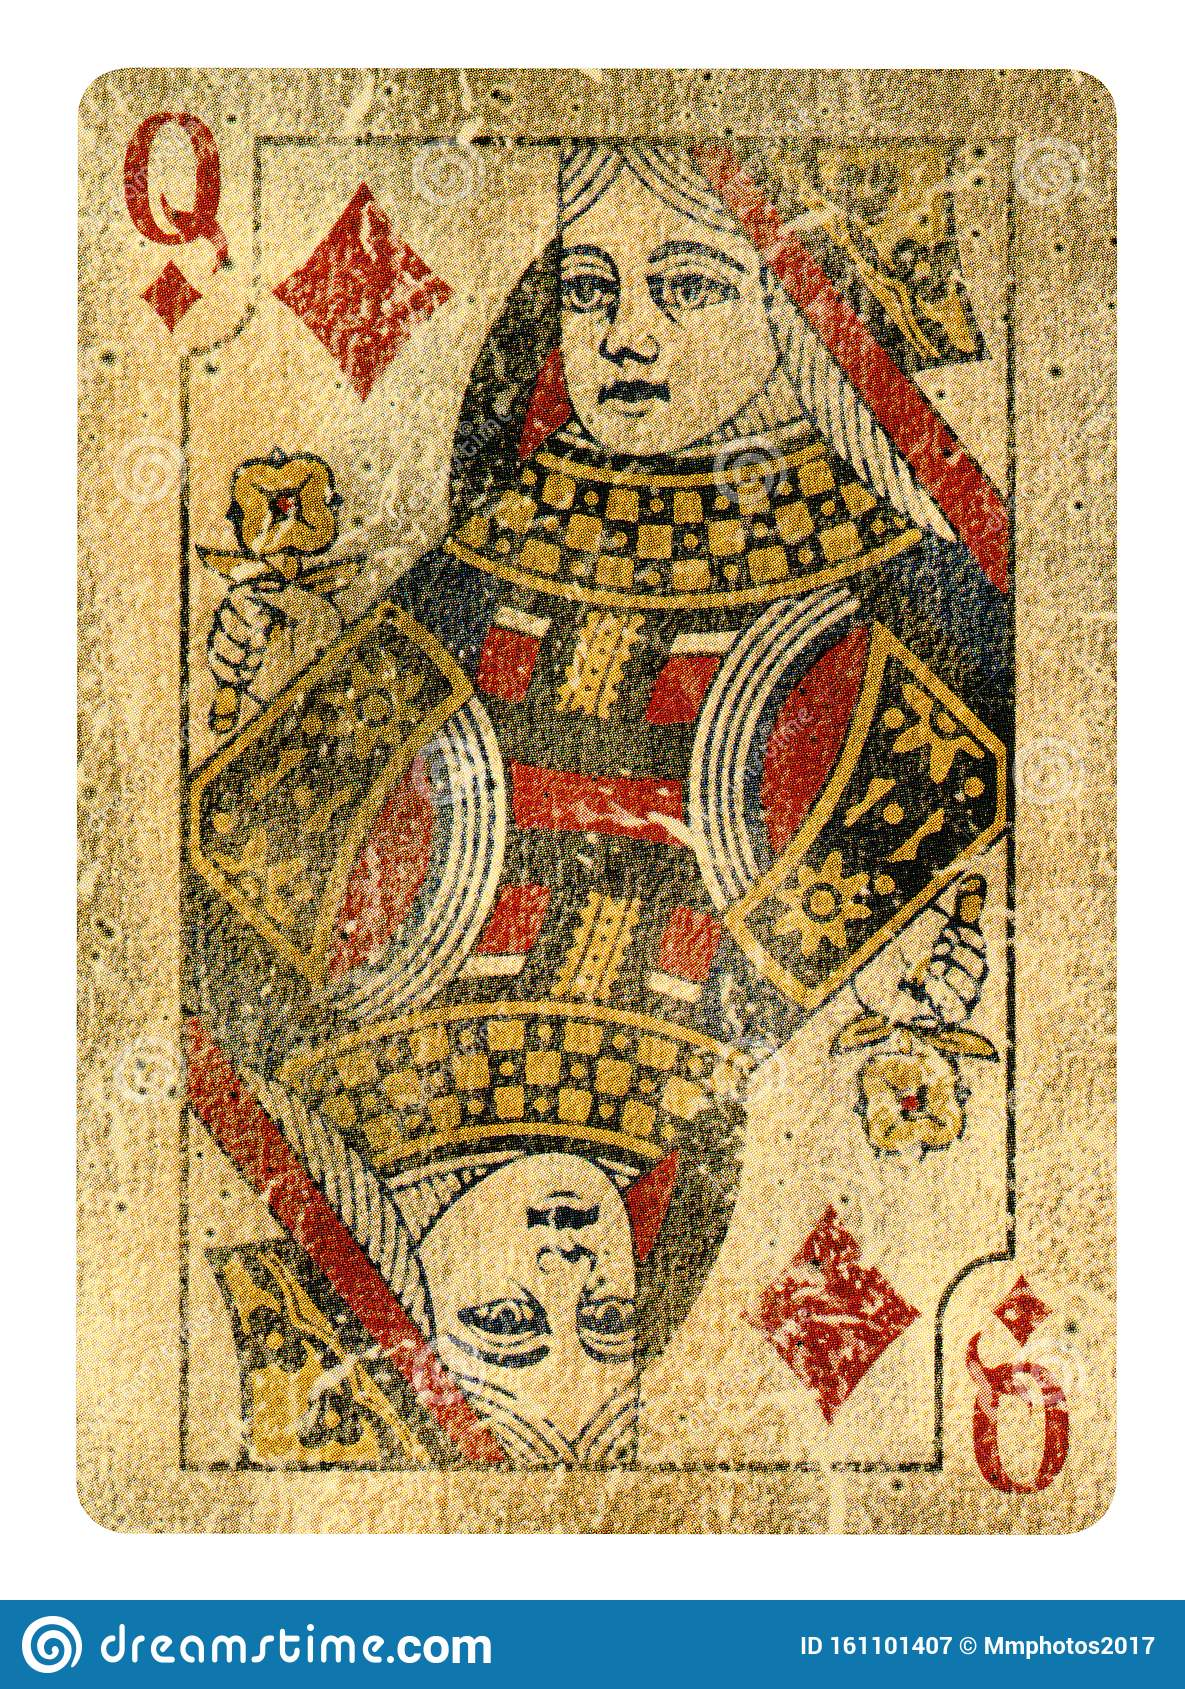queen of diamonds: (82, 68, 1115, 1537)
